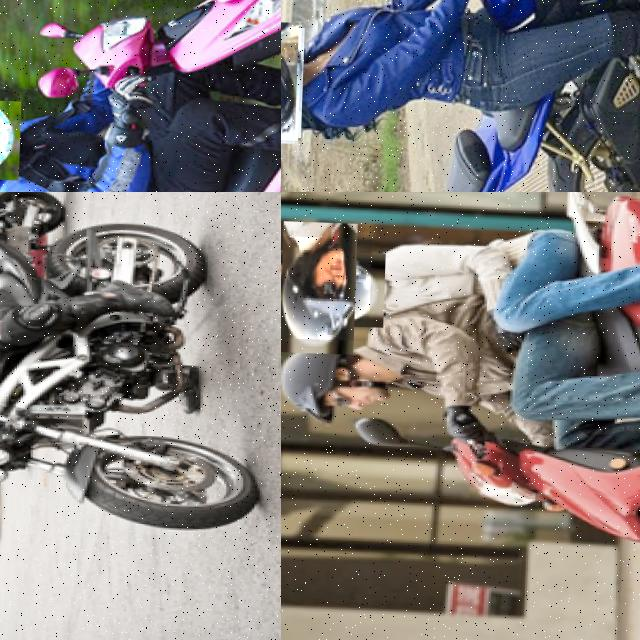helmet: (281, 234, 371, 340), (281, 334, 382, 428)
